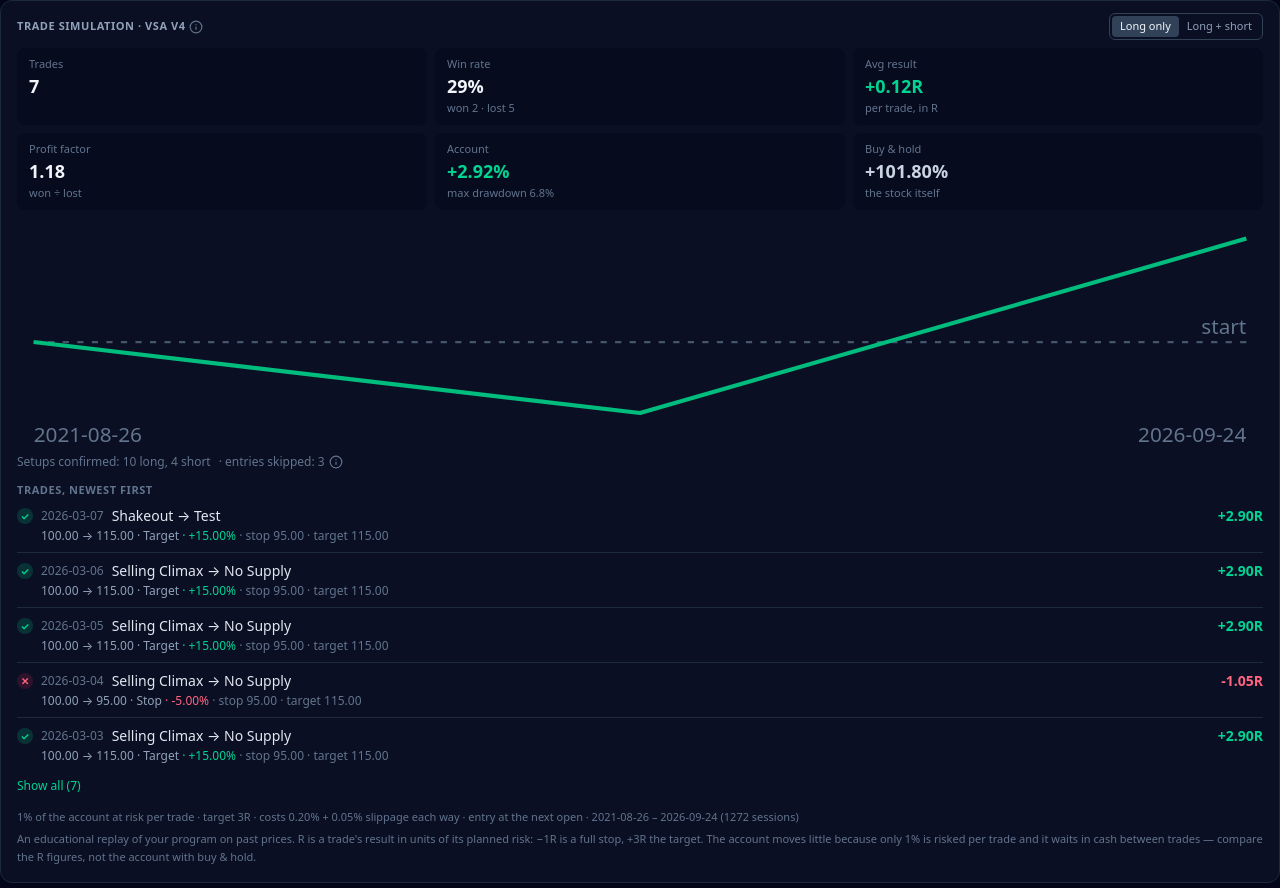
Test: TradeSimulationCard › lists trades newest first, five at a time
The width and height of the screenshot is (1280, 888).
Check: the number of list items is 5, box [17,498,1263,553]; [17,553,1263,608]; [17,608,1263,663]; [17,663,1263,718]; [17,718,1263,772]
Check: the list item that starts with "Shakeout → Test" shows "2026-03-07", box [41,507,104,524]
Step 1. Click the button "Show all (7)" → (49, 786), box [17,778,81,794]
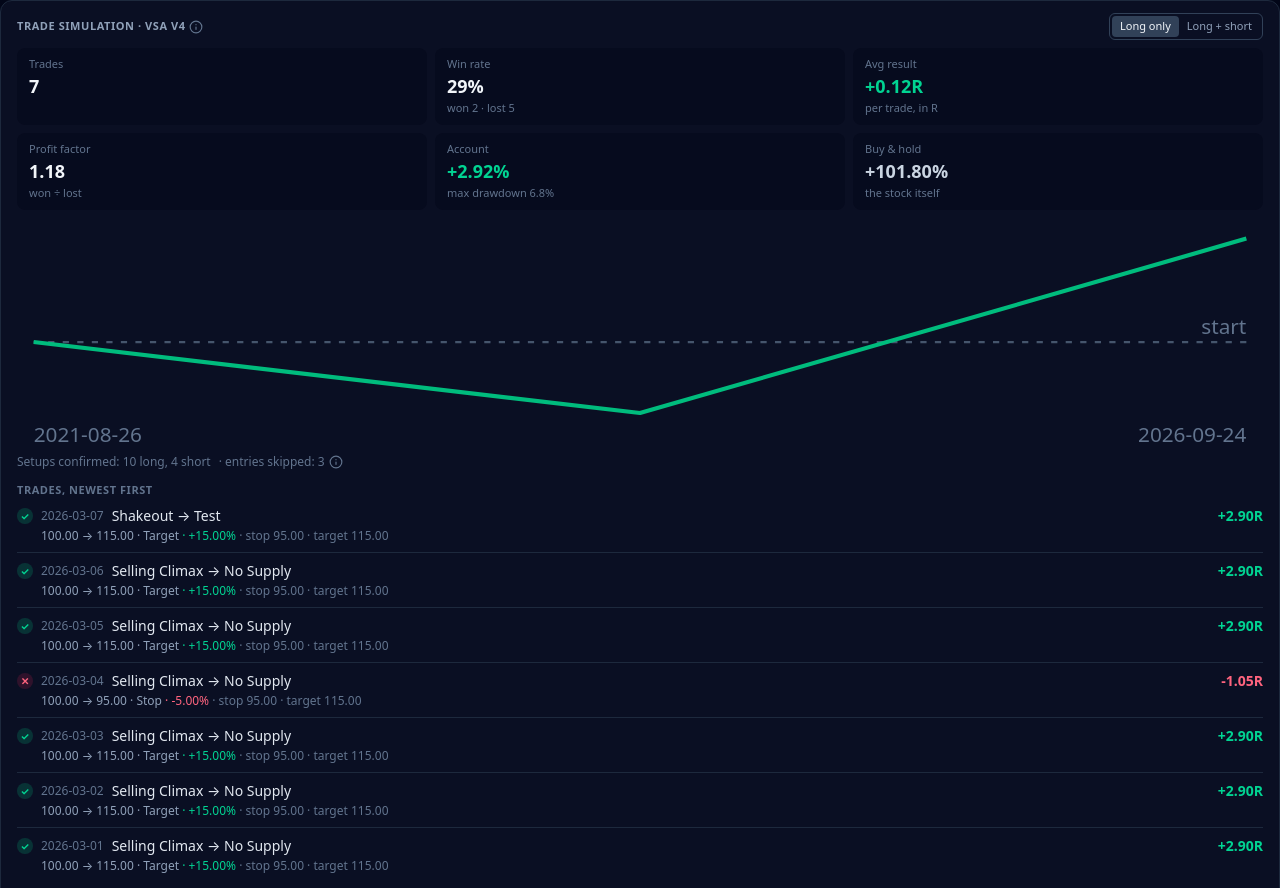
Check: the number of list items is 7
